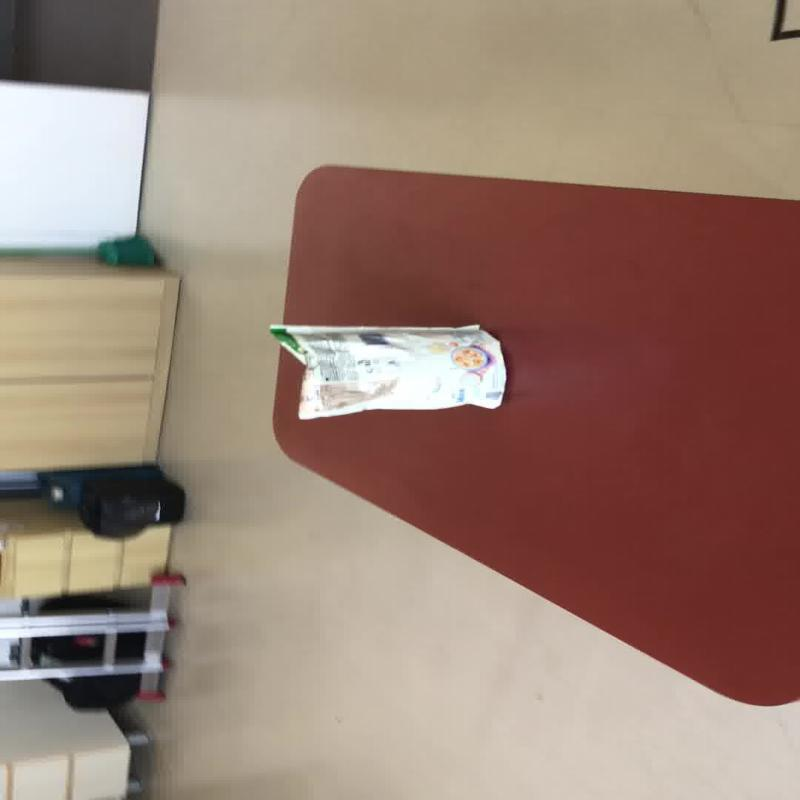corn flakes: (267, 322, 506, 420)
